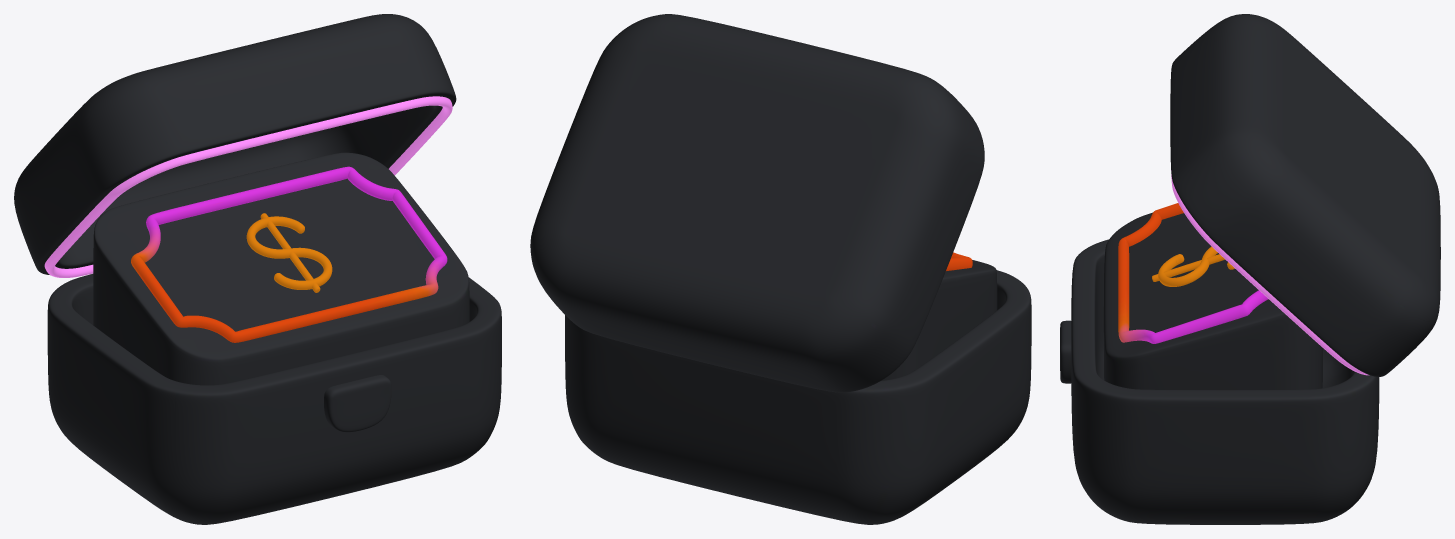
File: box1-opt.glb
3 views of the same model, side by side, from view 1: azimuth 30°, elevation 25°; view 2: azimuth 150°, elevation 25°; view 3: azimuth 270°, elevation 25° (orthographic). The views are drawn at different scales.
Parts seen in each view (by area): view 1: 1. krshka.002; view 2: 1. krshka.002; view 3: 1. krshka.002.
Boxes of the visible parts, x1,y1,x2,y2 form: 1. krshka.002: [14, 14, 501, 524]; 1. krshka.002: [530, 14, 1031, 524]; 1. krshka.002: [1060, 14, 1440, 524].
Size of the model in its own units: 2.38 by 2.65 by 2.31.
4 materials, 4 textured.
